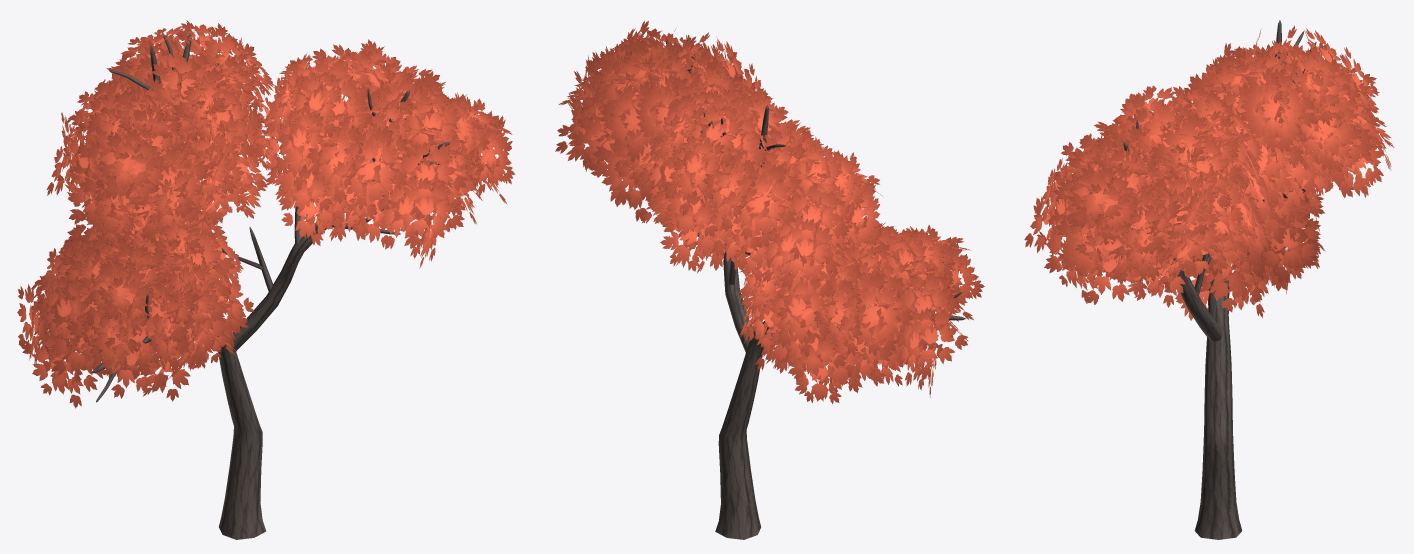
Rendered from MapleTree_5.glb.
The picture shows the model from 3 angles, left to right: view 1: azimuth 30°, elevation 25°; view 2: azimuth 150°, elevation 25°; view 3: azimuth 270°, elevation 25°; orthographic projection. The views are drawn at different scales.
Visible parts, largest first — view 1: MapleTree_5; view 2: MapleTree_5; view 3: MapleTree_5.
Boxes of the visible parts, x1,y1,x2,y2 form: MapleTree_5: (17, 20, 515, 539); MapleTree_5: (555, 20, 984, 539); MapleTree_5: (1024, 20, 1394, 539).
Bounding box in the file's own units: 7.01 × 7.28 × 5.08.
2 materials, 2 textured.
